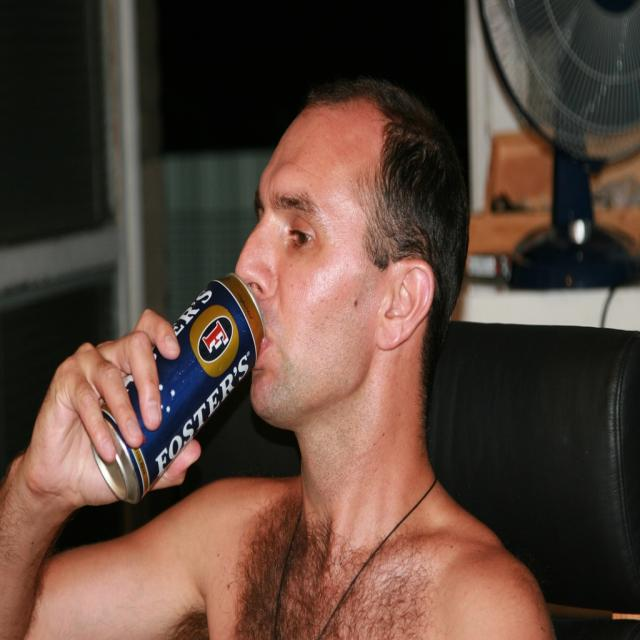fosters: (189, 304, 241, 380)
